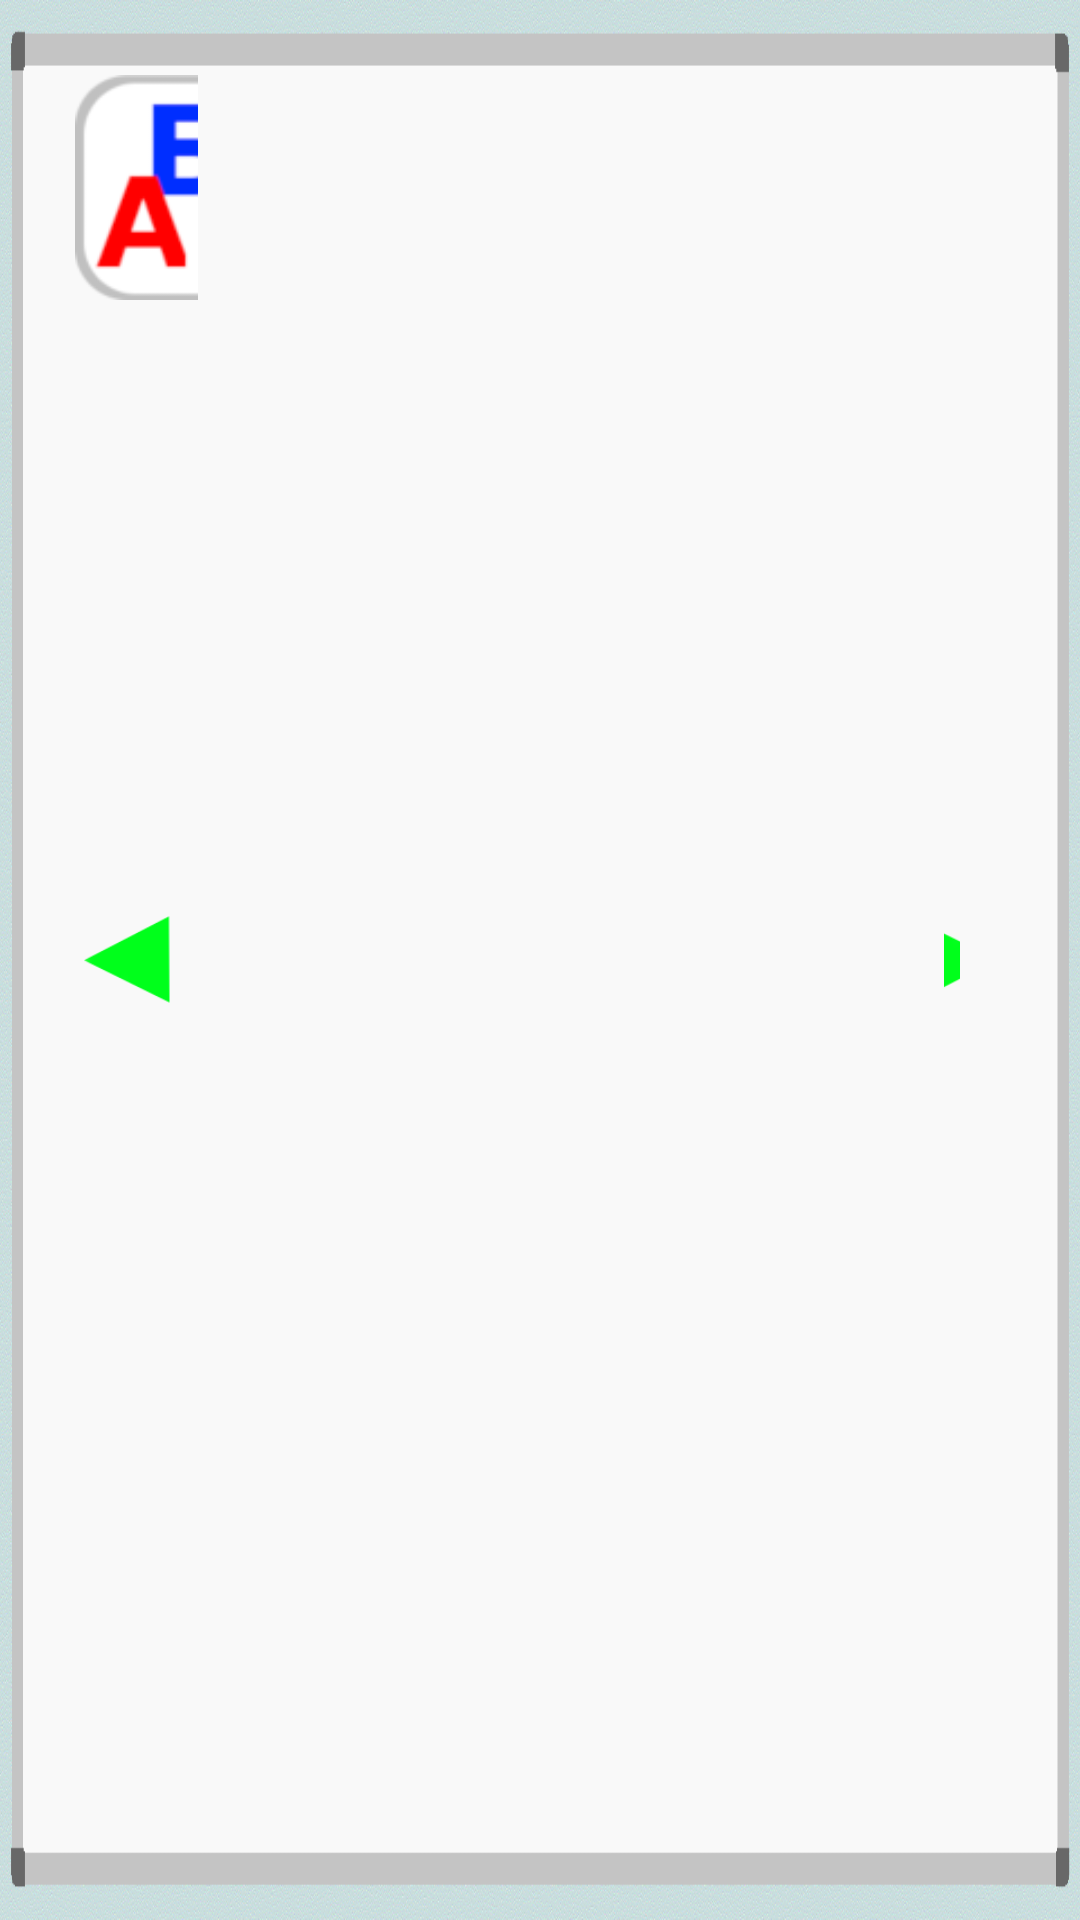

Icons on this 1080 x 1920 Android screen, each with its box as (x1, y1, x2, y2):
back: (84, 916, 170, 1003)
